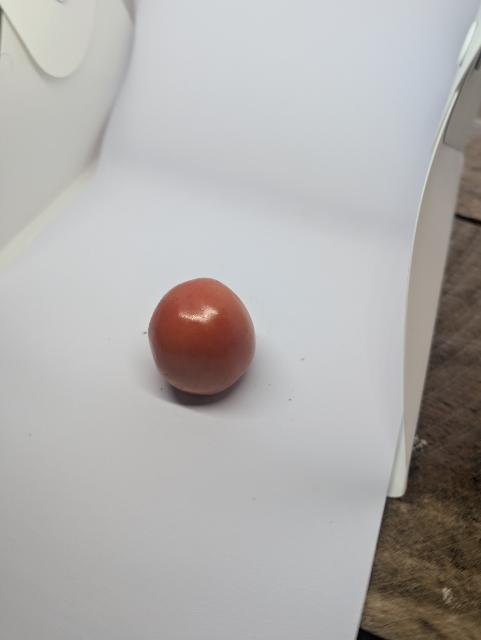red: (144, 274, 263, 400)
